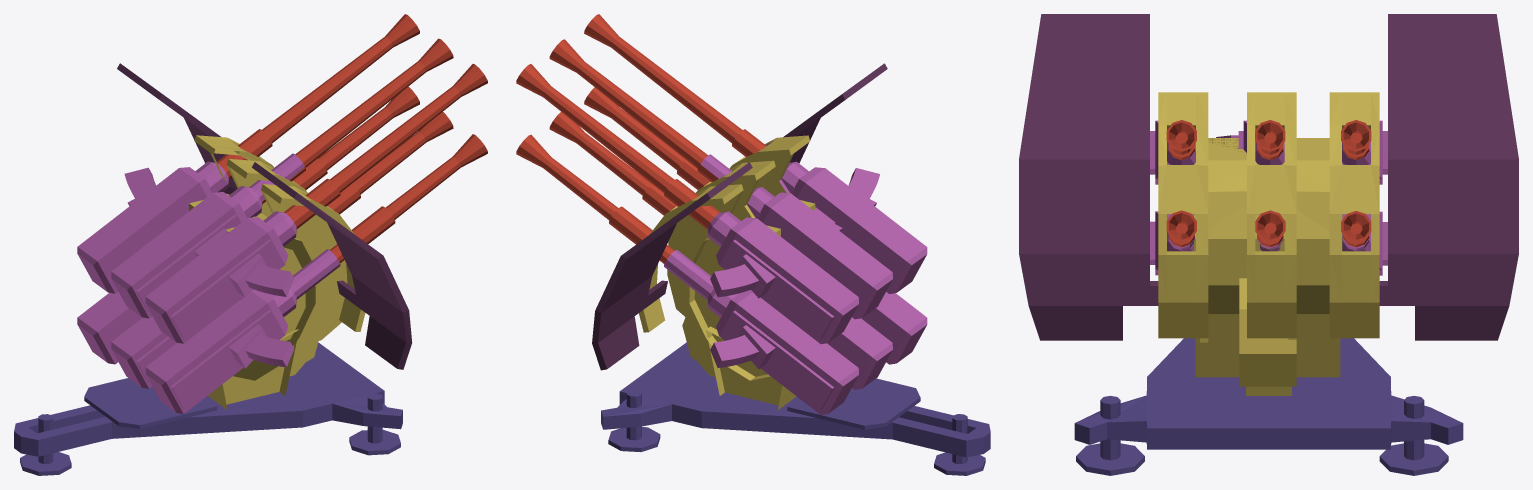
Rendered from FlakCannon_Update_4.fbx.
3 views of the same model, side by side, from view 1: azimuth 30°, elevation 25°; view 2: azimuth 150°, elevation 25°; view 3: azimuth 270°, elevation 25° (orthographic). The views are drawn at different scales.
Parts seen in each view (by area): view 1: Attack, Base; view 2: Attack, Base; view 3: Attack, Base.
Part boxes in pixels (x1,y1,x2,y2): Attack: (77, 14, 487, 413); Base: (14, 342, 402, 475); Attack: (516, 14, 927, 414); Base: (601, 342, 990, 475); Attack: (1019, 14, 1518, 395); Base: (1074, 338, 1463, 475).
Bounding box in the file's own units: 233 × 168 × 181.
